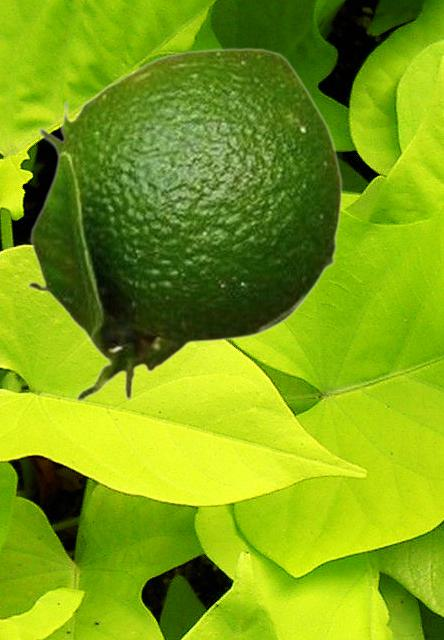dalandan: (25, 47, 342, 402)
